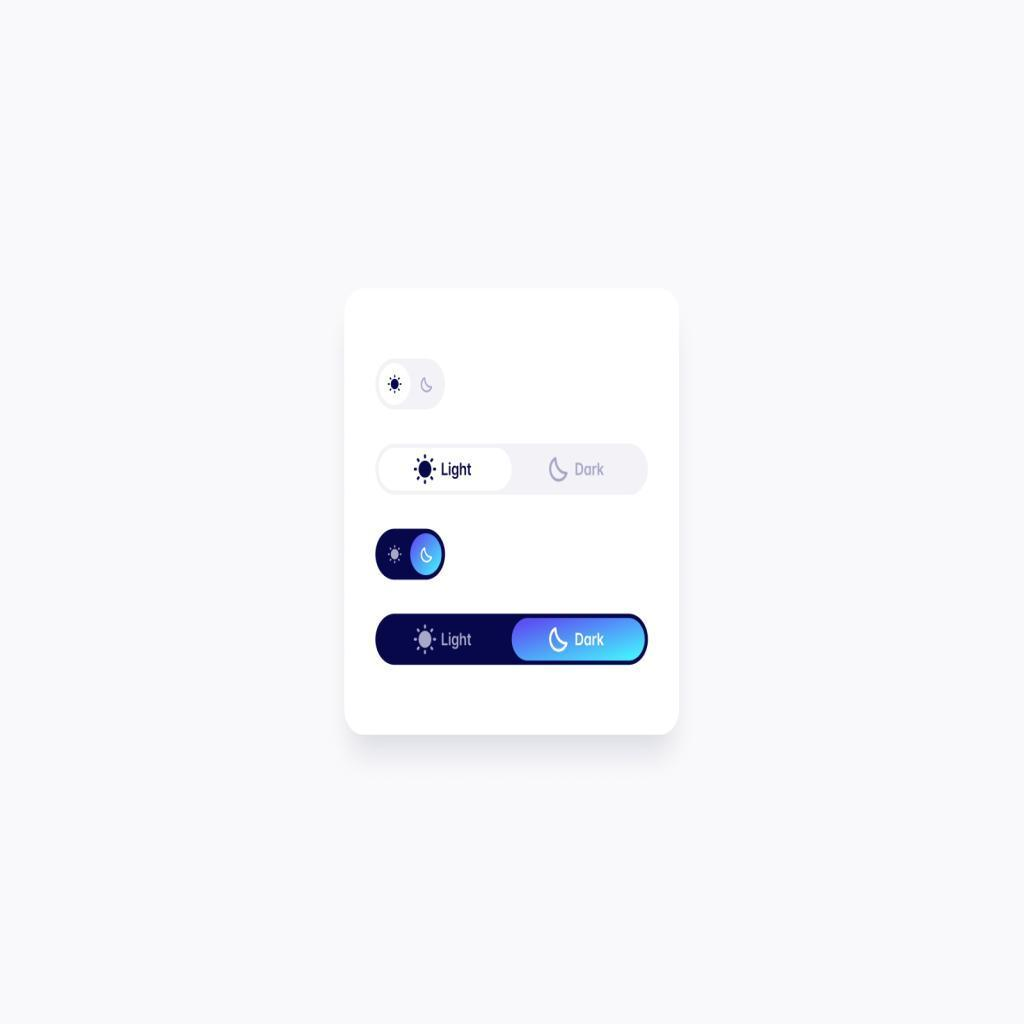switch: (381, 443, 649, 496), (376, 614, 650, 664), (374, 529, 446, 581), (375, 361, 447, 412)
